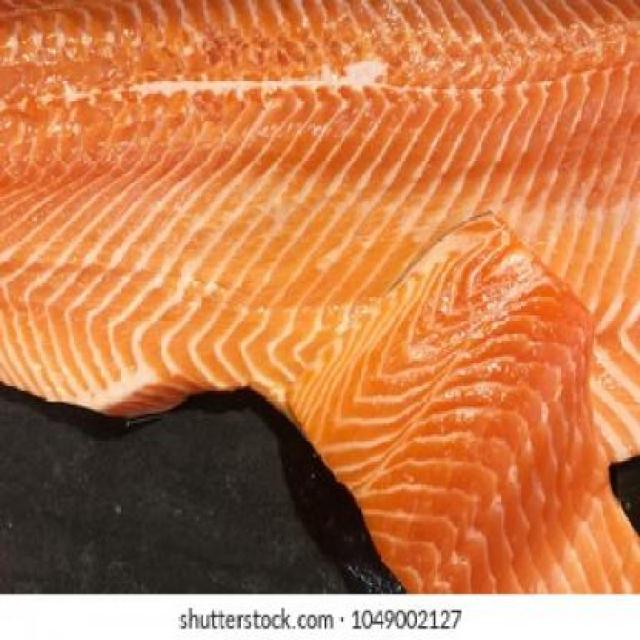salmon: (1, 4, 640, 473), (271, 192, 640, 595)
